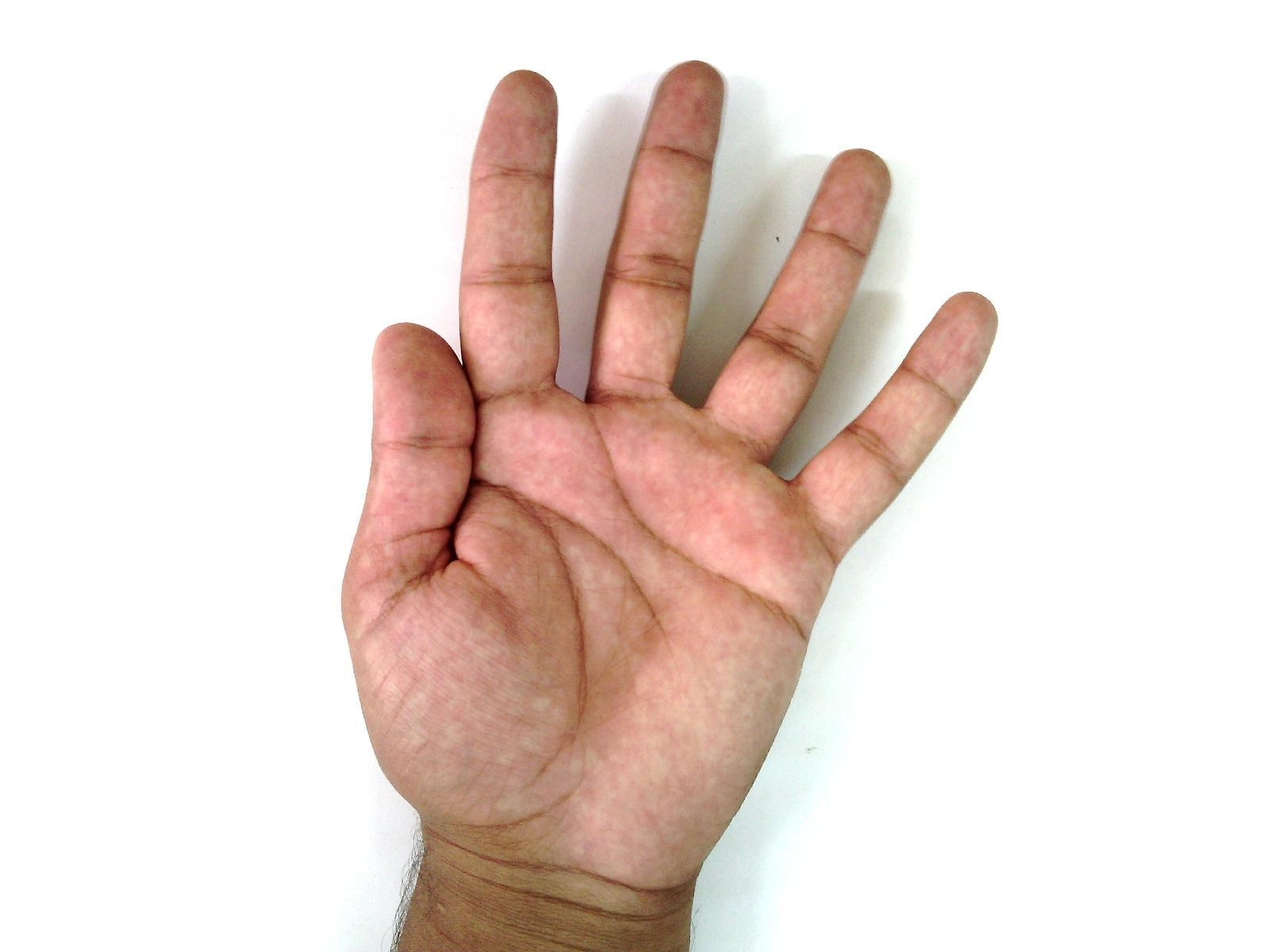open_palm: (338, 60, 1001, 893)
